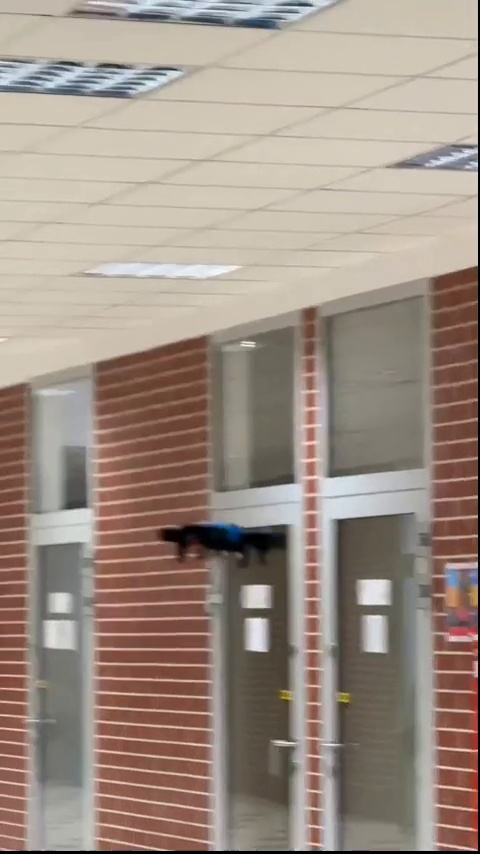drone: (161, 520, 285, 564)
